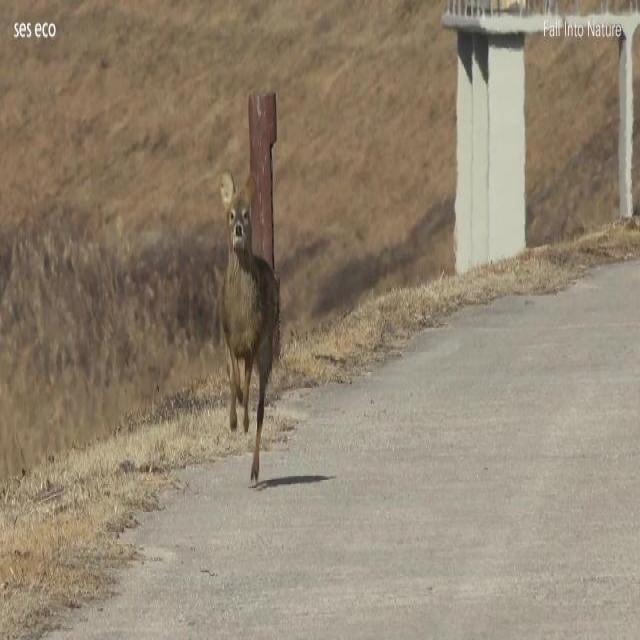deer: (219, 166, 278, 486)
